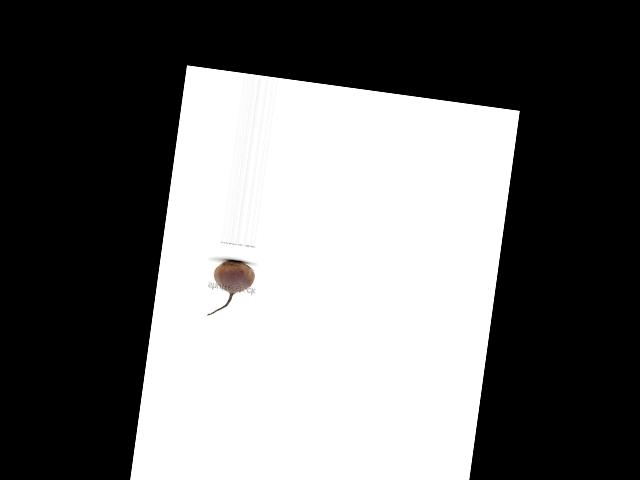beet: (207, 257, 257, 321)
